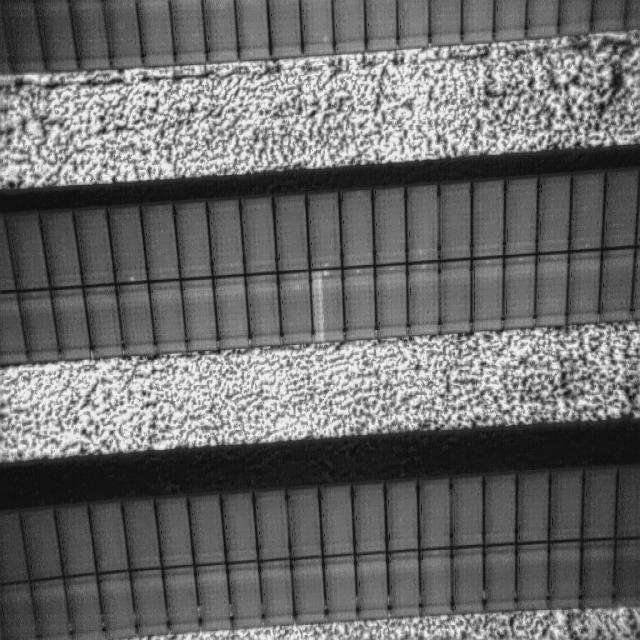diode: (310, 266, 344, 340)
